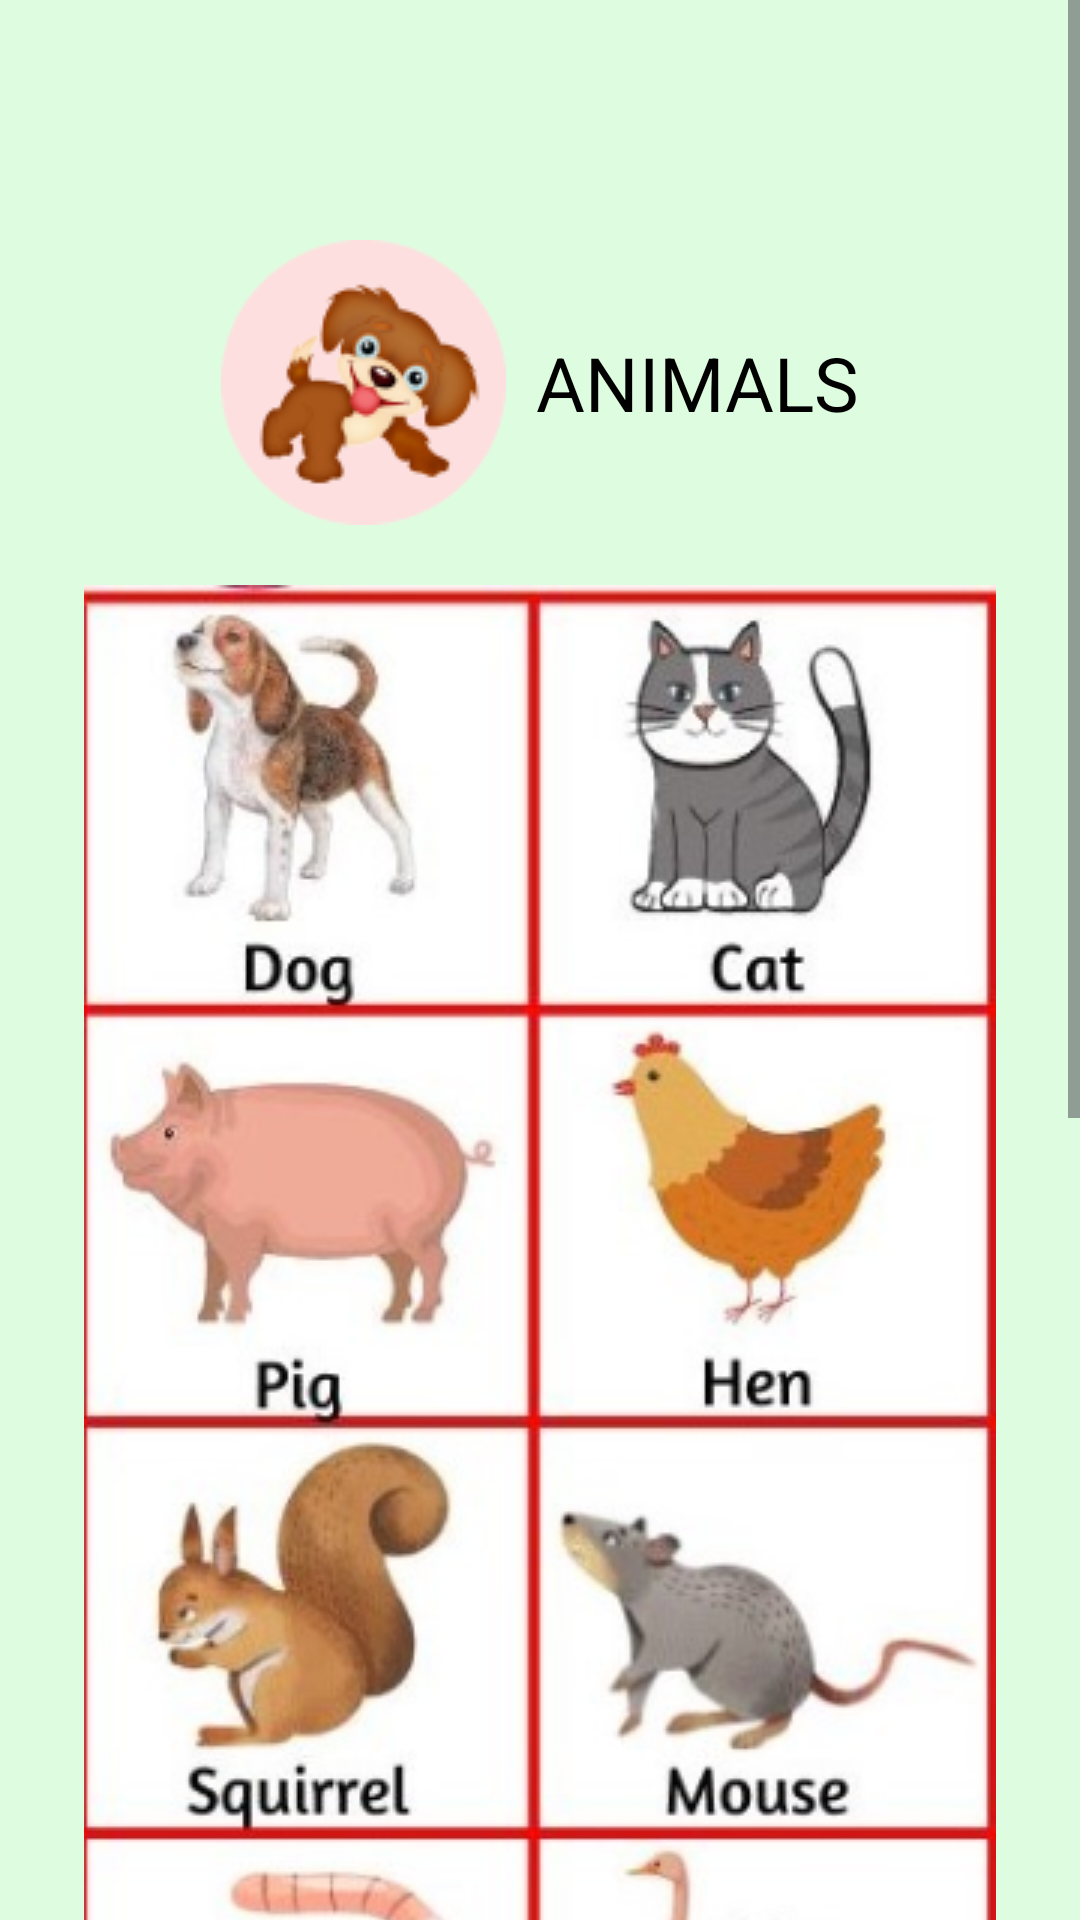

Where to tap for icons on this 1080w x 1920h app screen, as point (x, y):
dog: point (363, 382)
